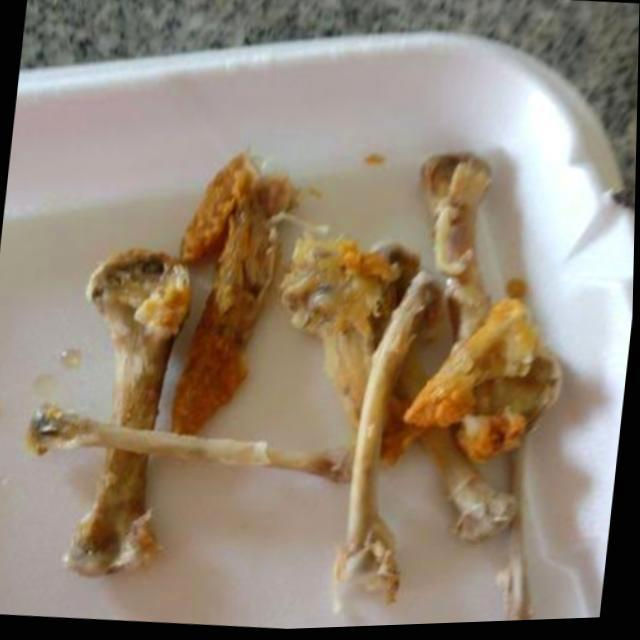left_over_food: (162, 157, 296, 439), (337, 278, 445, 606), (402, 284, 566, 470), (281, 232, 421, 434), (31, 404, 354, 485), (85, 247, 194, 433), (419, 156, 494, 345), (68, 449, 166, 577), (428, 435, 522, 550), (504, 453, 533, 625)
